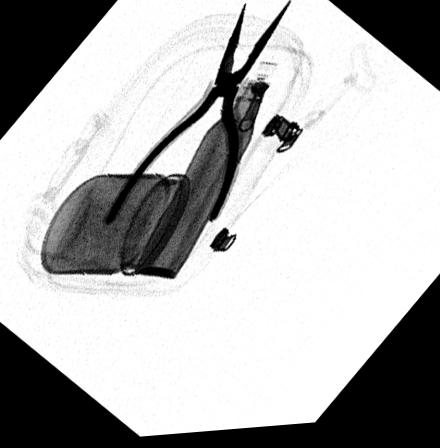Pliers: (96, 2, 294, 229)
